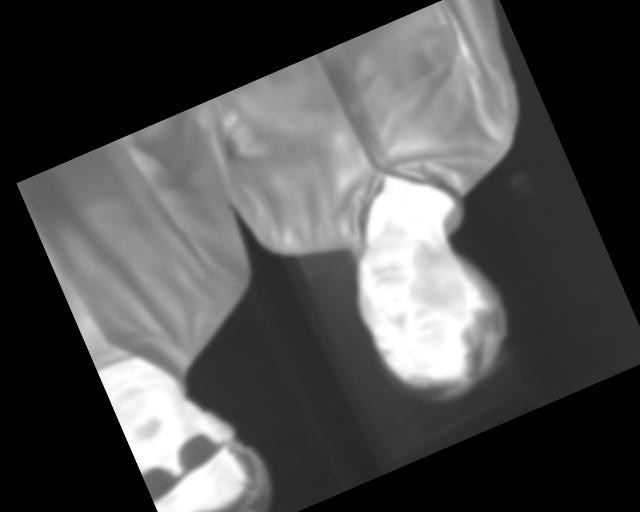face: (336, 208, 530, 422), (109, 353, 285, 512)
